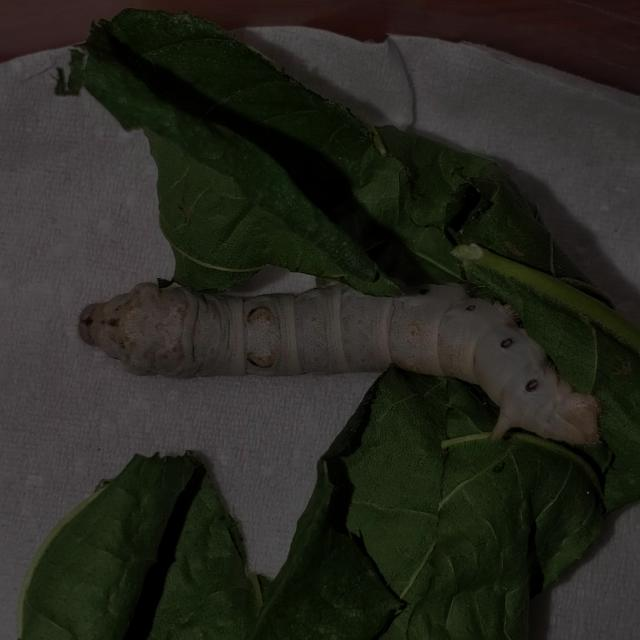Healthy: (54, 203, 614, 495)
